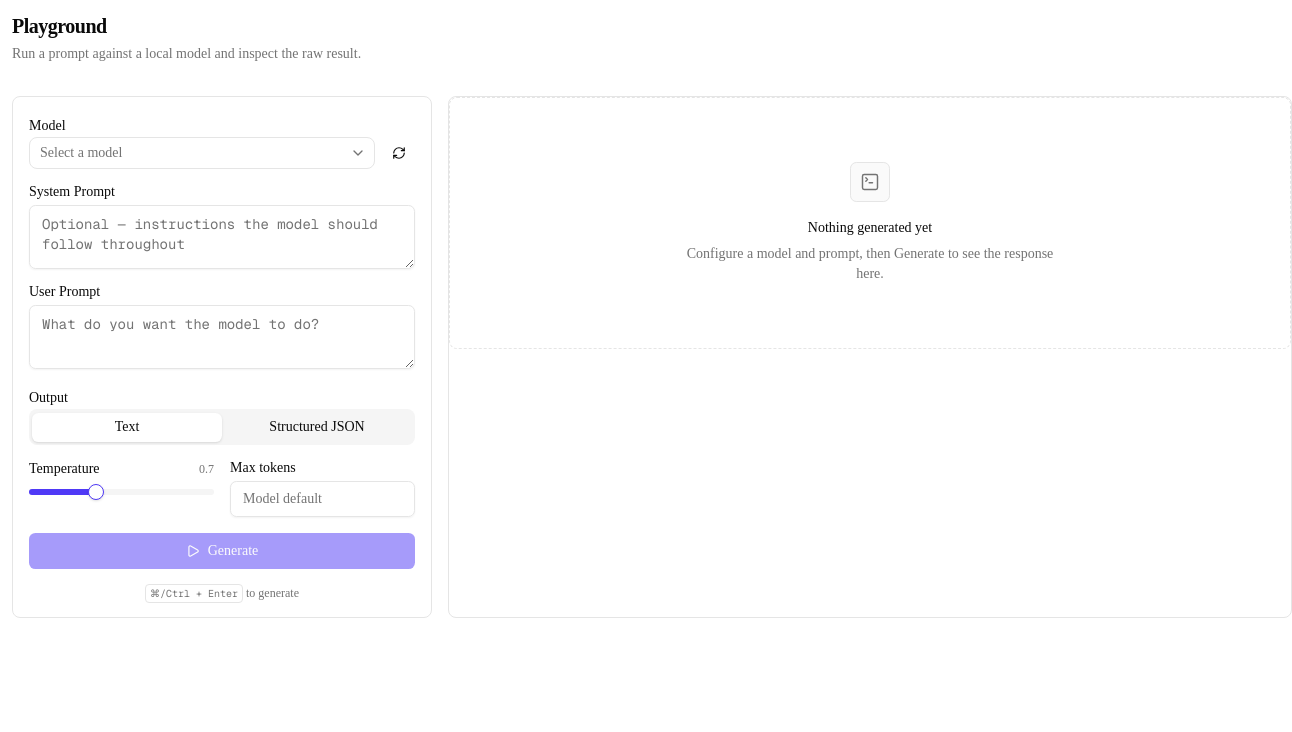
Test: PlaygroundPage › disables Generate until a model and a user prompt are present
expect the button "Generate" is disabled: met, box [29, 533, 415, 569]
In the text box labelled "User Prompt": (222, 337) [29, 305, 415, 369], type "Say hi"
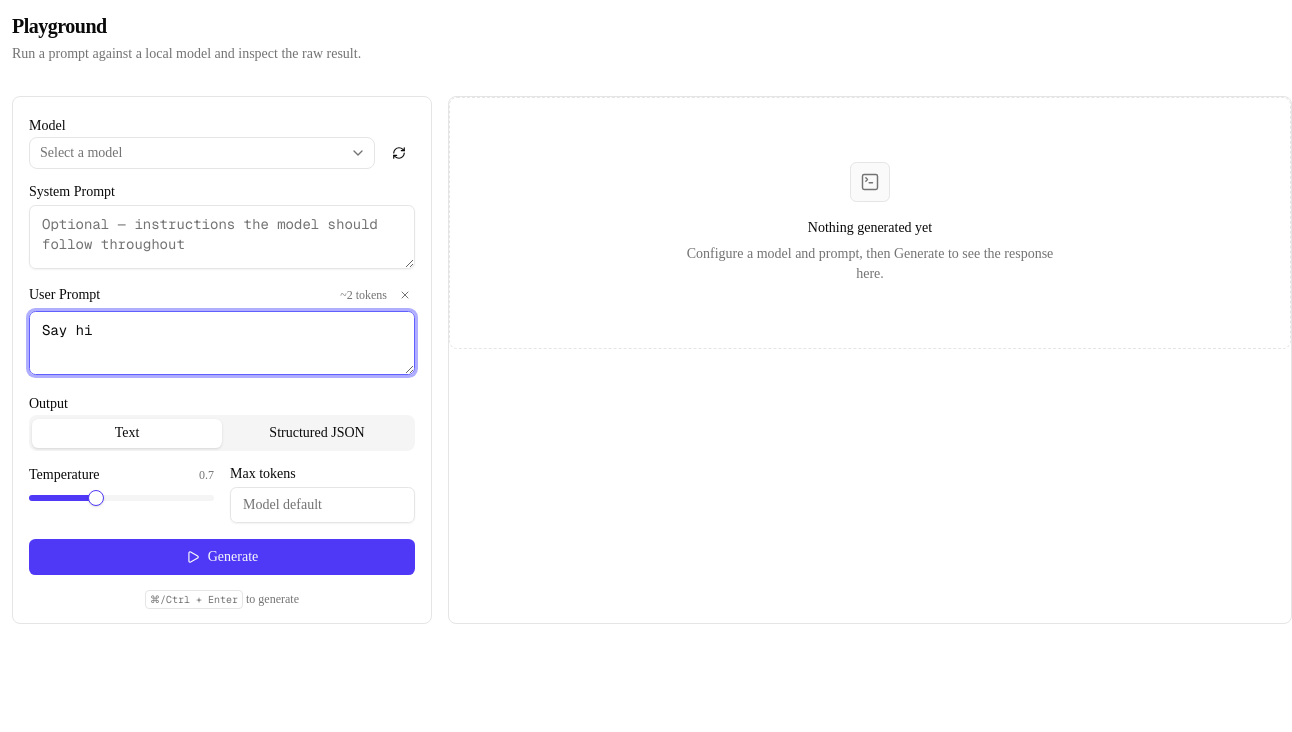
expect the button "Generate" is enabled: met, box [29, 539, 415, 575]
